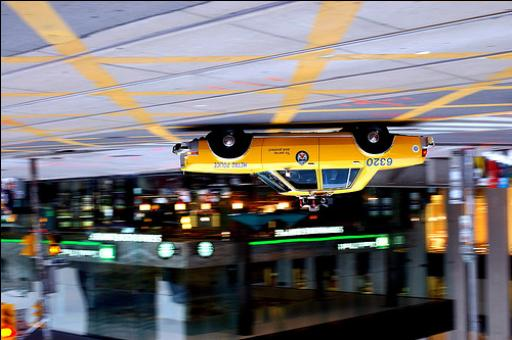Cheetah: (158, 94, 436, 211)
